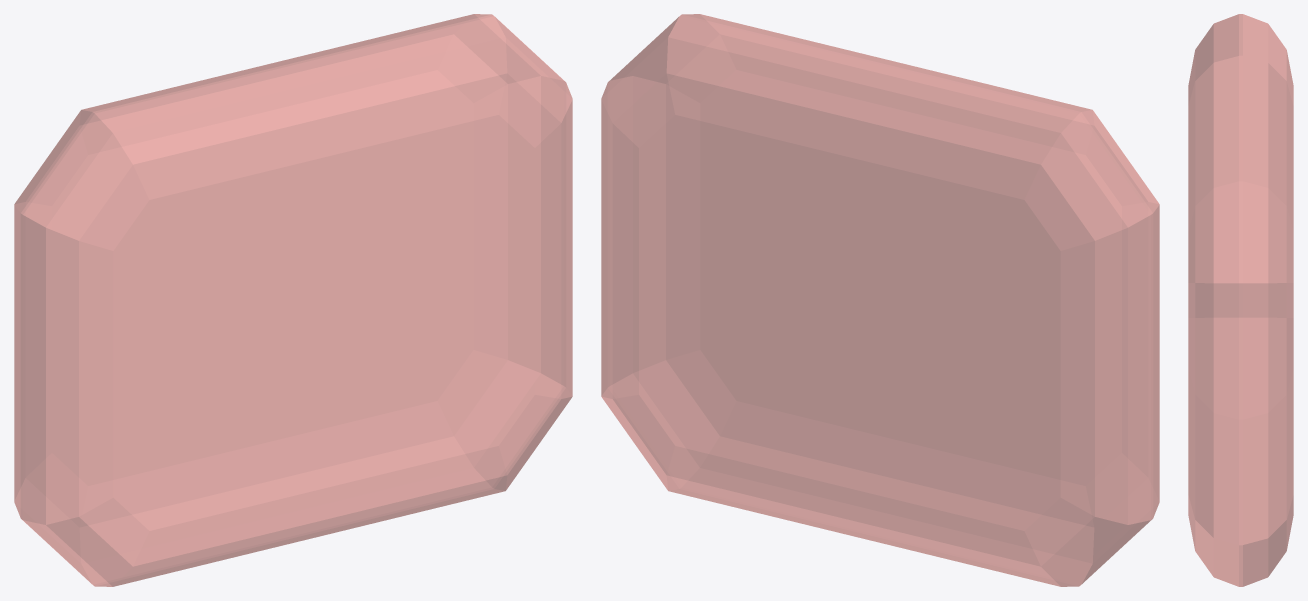
3 views of the same model, side by side, from view 1: azimuth 30°, elevation 25°; view 2: azimuth 150°, elevation 25°; view 3: azimuth 270°, elevation 25° (orthographic). The views are drawn at different scales.
Visible parts, largest first — view 1: Cube; view 2: Cube; view 3: Cube.
Boxes of the visible parts, x1=… form: Cube: x1=14, y1=14, x2=572, y2=586; Cube: x1=601, y1=14, x2=1159, y2=586; Cube: x1=1188, y1=14, x2=1293, y2=586.
Size of the model in its own units: 3.9 by 3.25 by 0.7631.
